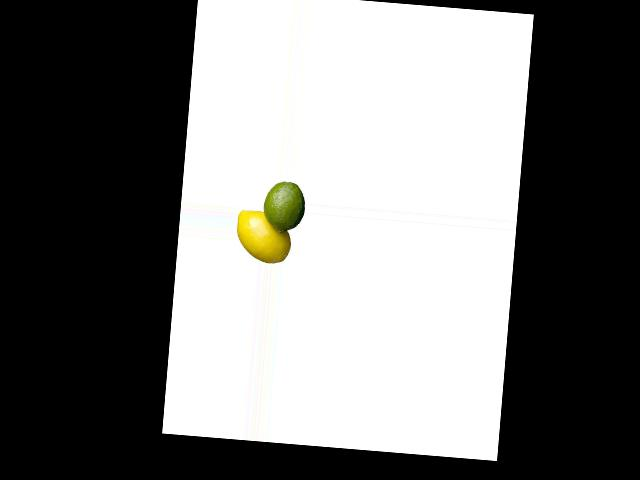lemon: (253, 178, 309, 241)
